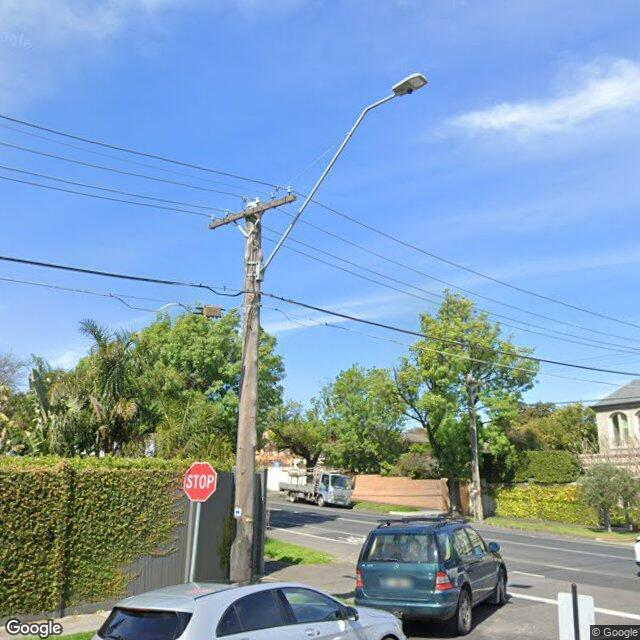crossarm: (209, 185, 296, 230)
streetlight: (256, 73, 430, 281)
timber-pole: (228, 202, 262, 582)
